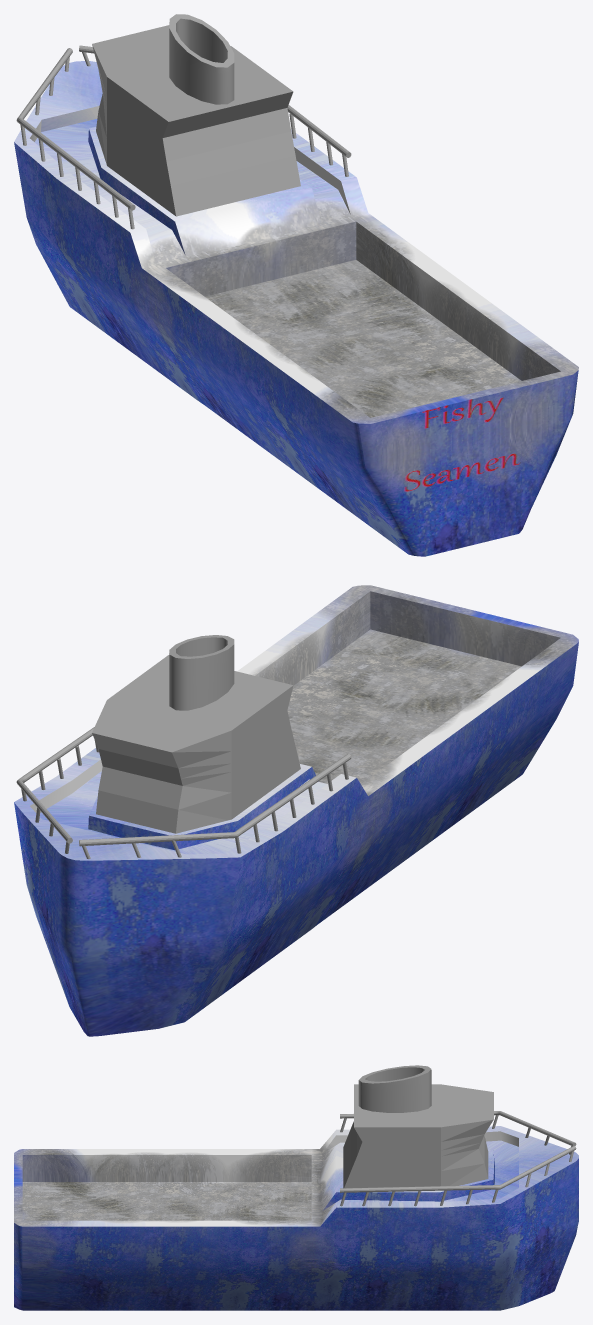
File: boat_v2.fbx
The picture shows the model from 3 angles, top to bottom: view 1: azimuth 30°, elevation 25°; view 2: azimuth 150°, elevation 25°; view 3: azimuth 270°, elevation 25°; orthographic projection. The views are drawn at different scales.
Parts seen in each view (by area): view 1: group2_pCube1, pCube4, pPipe1, pCylinder14; view 2: group2_pCube1, pCube4, pCylinder14, pPipe1; view 3: group2_pCube1, pCube4, pPipe1, pCylinder14.
Part boxes in pixels (x1,y1,x2,y2): group2_pCube1: (14,61,578,556); pCube4: (92,25,300,216); pPipe1: (169,14,234,104); pCylinder14: (16,45,351,229); group2_pCube1: (14,585,578,1036); pCube4: (92,655,300,833); pCylinder14: (16,727,351,859); pPipe1: (169,635,234,710); group2_pCube1: (14,1126,578,1310); pCube4: (343,1084,493,1188); pPipe1: (358,1065,431,1112); pCylinder14: (340,1111,576,1206).
Size of the model in its own units: 7.12 by 9.46 by 21.82.
